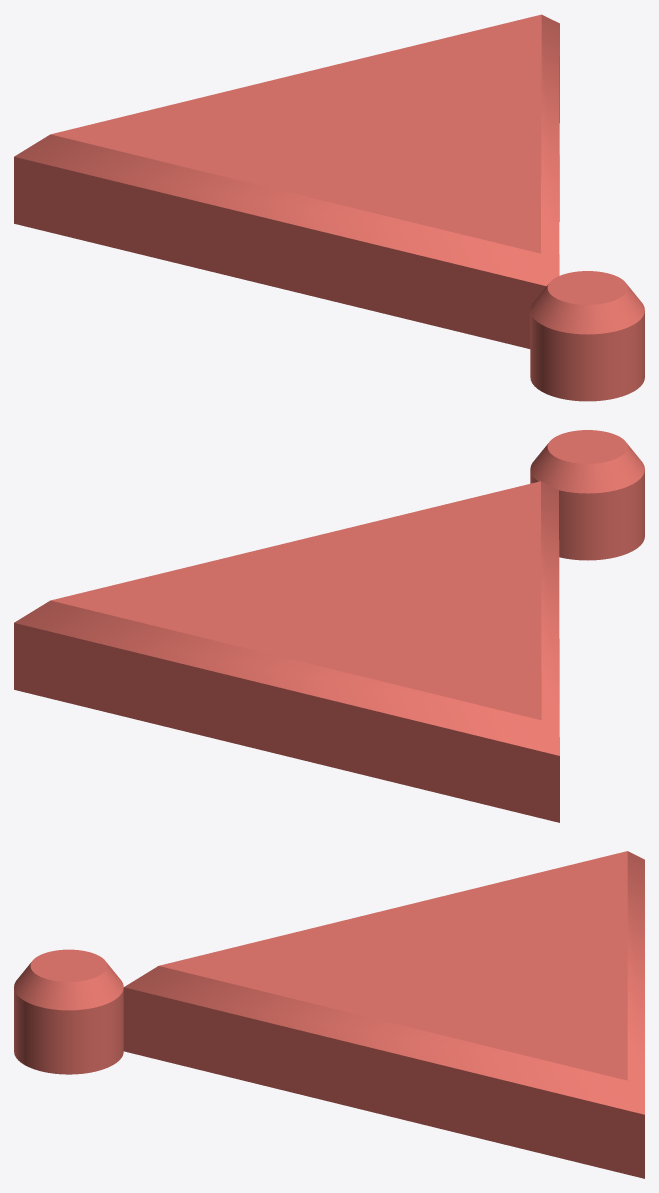
Rendered from not.fbx.
The picture shows the model from 3 angles, top to bottom: view 1: azimuth 30°, elevation 25°; view 2: azimuth 150°, elevation 25°; view 3: azimuth 270°, elevation 25°; orthographic projection. The views are drawn at different scales.
Visible parts, largest first — view 1: path12162; view 2: path12162; view 3: path12162.
Part boxes in pixels (box(x1,y1,x2,y2)): path12162: box(14, 14, 644, 401); path12162: box(14, 430, 644, 822); path12162: box(14, 851, 644, 1178).
Bounding box in the file's own units: 2.56 × 0.4 × 2.67.
